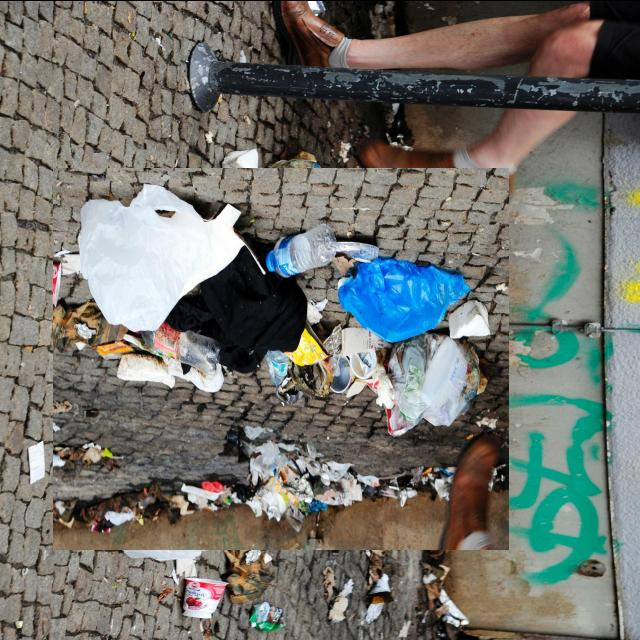garbage: (72, 148, 490, 568)
